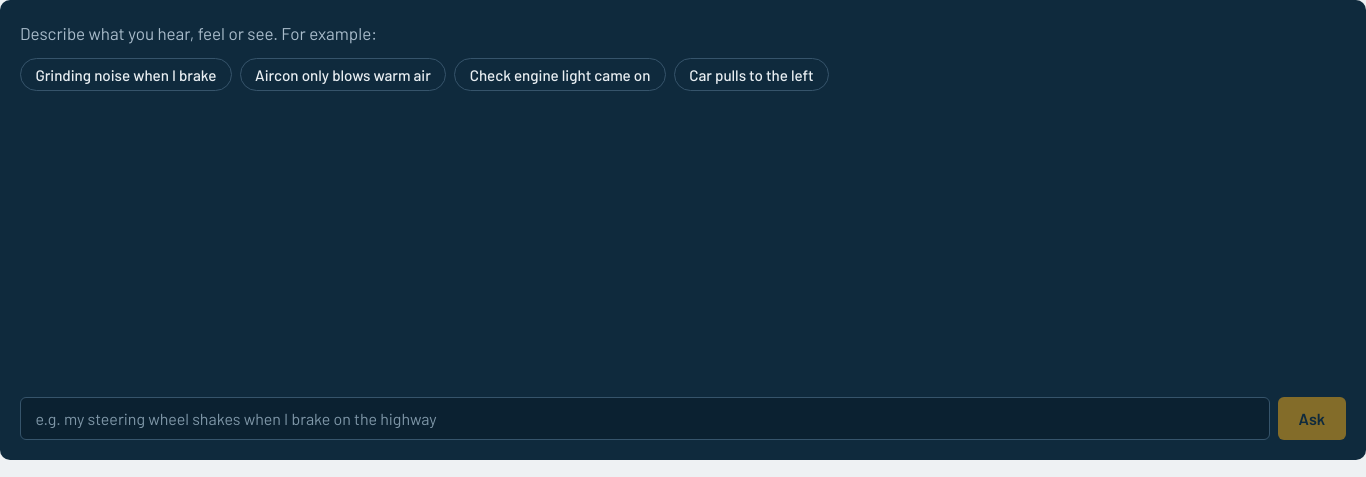
ChatAssistant › asks the AI service and shows the suggested service with its price
What coordinates should you click on to do the following:
click the button "Grinding noise when I brake"
I would click on:
 (126, 75)
Its box is [20,58,232,91].
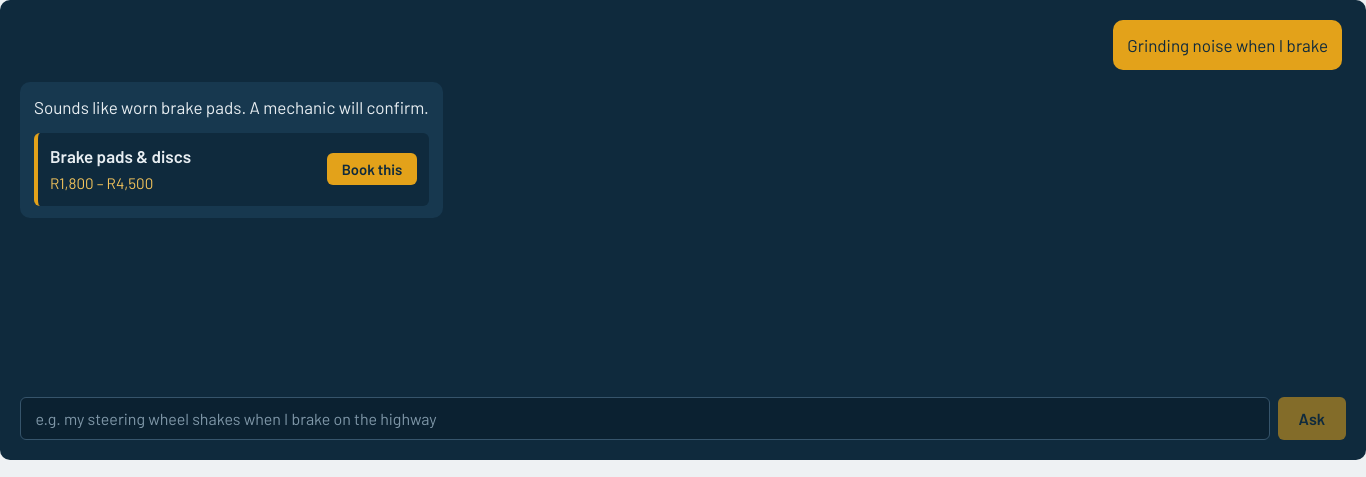
Result: the text "Sounds like worn brake pads. A mechanic will confirm." is shown at [34,94,429,121]
Result: the text "Brake pads & discs" is shown at [50,143,191,169]
